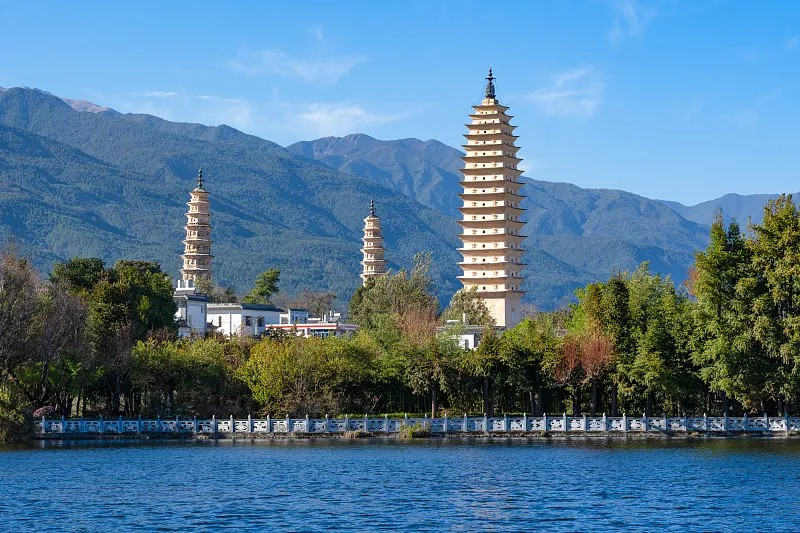ThreePagoda: (456, 67, 526, 326)
